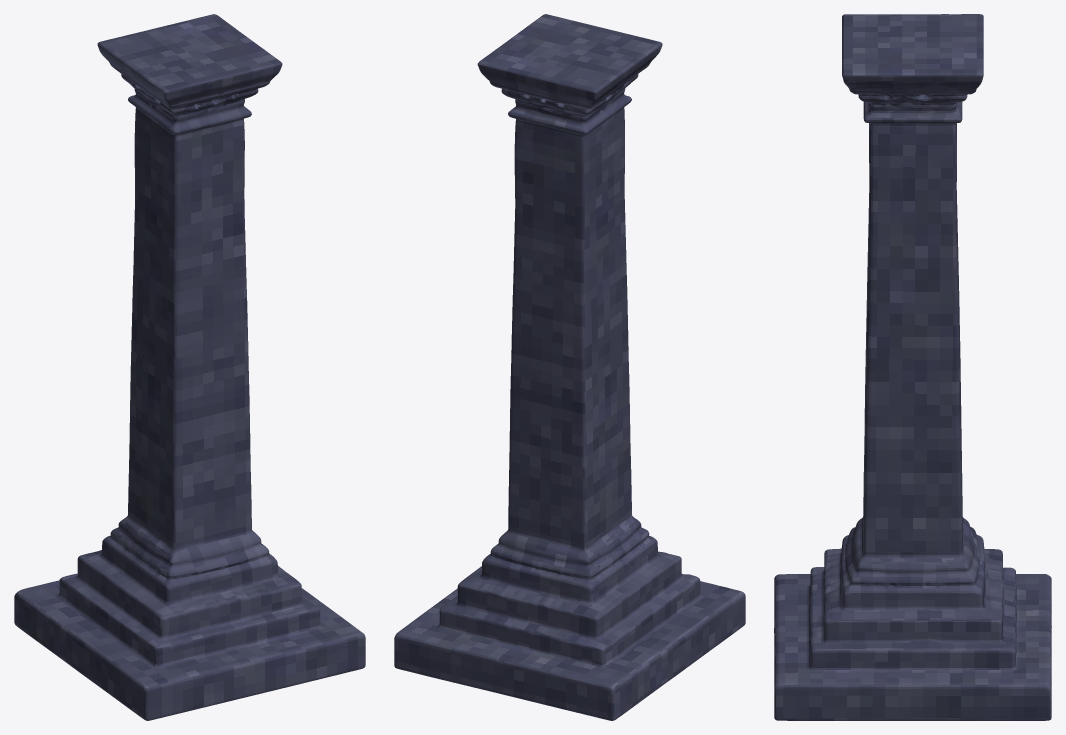
The model's file is weathered-monolith-pillar-generated-2026-04-19T23-45-16-485Z.medium.glb.
The picture shows the model from 3 angles, left to right: view 1: azimuth 30°, elevation 25°; view 2: azimuth 150°, elevation 25°; view 3: azimuth 270°, elevation 25°; orthographic projection. The views are drawn at different scales.
Parts seen in each view (by area): view 1: temp_mesh.ply; view 2: temp_mesh.ply; view 3: temp_mesh.ply.
Boxes of the visible parts, left/top/right/bottom form: temp_mesh.ply: left=14, top=14, right=365, bottom=720; temp_mesh.ply: left=394, top=14, right=745, bottom=720; temp_mesh.ply: left=774, top=14, right=1051, bottom=720.
Size of the model in its own units: 0.7673 by 1.97 by 0.7983.
Materials: 1 (1 with a texture image).
